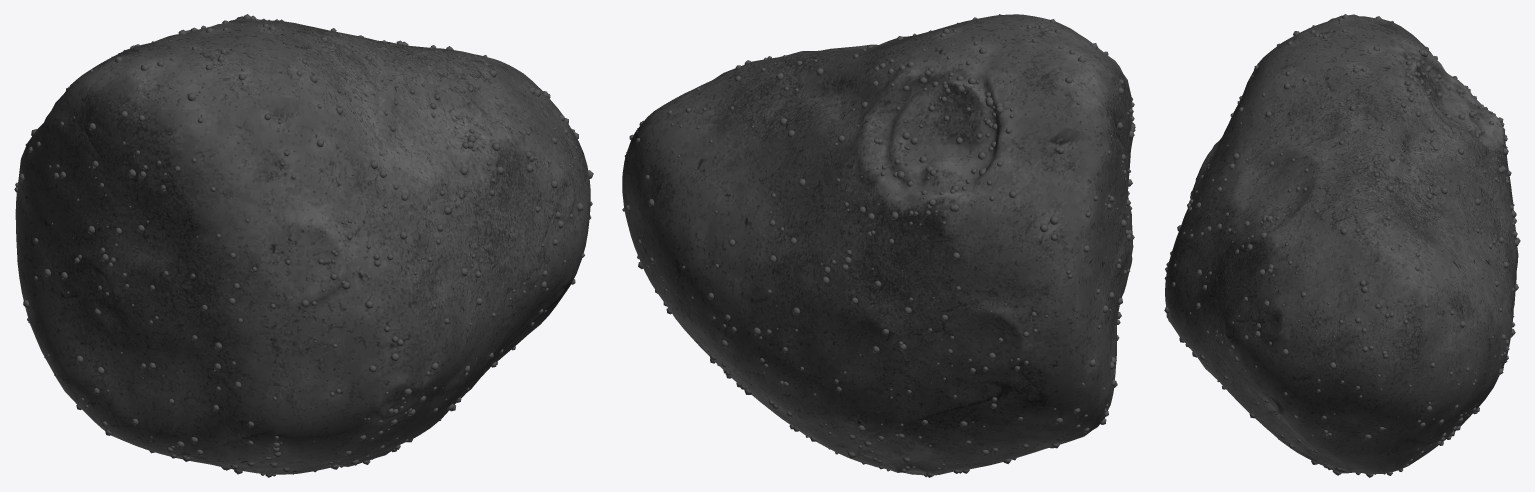
The model's file is daphne-transformed.glb.
3 renders of one model, left to right at view 1: azimuth 30°, elevation 25°; view 2: azimuth 150°, elevation 25°; view 3: azimuth 270°, elevation 25°, orthographic. The views are drawn at different scales.
Parts seen in each view (by area): view 1: Daphne_LP, Daphe_LP_Debris; view 2: Daphne_LP, Daphe_LP_Debris; view 3: Daphne_LP, Daphe_LP_Debris.
Part boxes in pixels (x1,y1,x2,y2): Daphne_LP: [15, 16, 590, 474]; Daphe_LP_Debris: [14, 14, 593, 477]; Daphne_LP: [622, 14, 1133, 475]; Daphe_LP_Debris: [622, 14, 1135, 477]; Daphne_LP: [1165, 14, 1518, 473]; Daphe_LP_Debris: [1164, 14, 1520, 477].
Size of the model in its own units: 234 by 197 by 168.
Materials: 2 (1 with a texture image).
